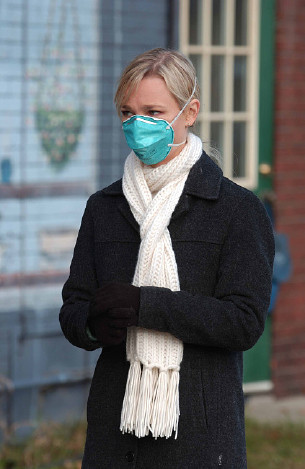face_mask: (120, 77, 179, 162)
